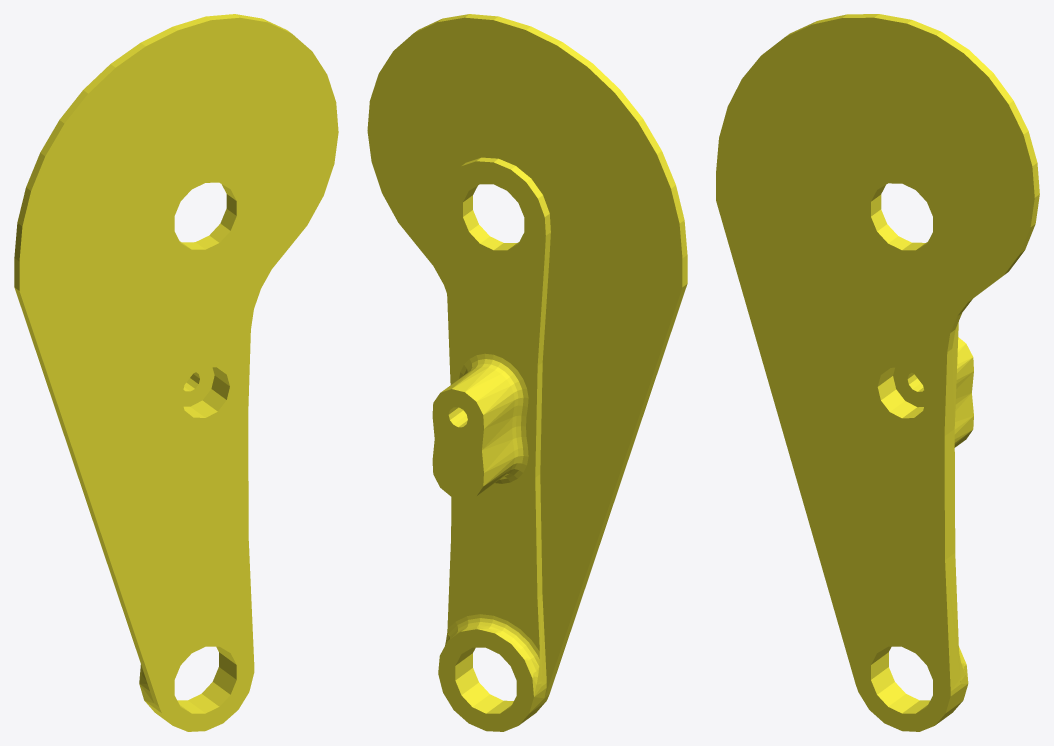
Rendered from rpb2.dae.
3 views of the same model, side by side, from view 1: azimuth 30°, elevation 25°; view 2: azimuth 150°, elevation 25°; view 3: azimuth 330°, elevation 25° (orthographic).
Parts seen in each view (by area): view 1: rpb2; view 2: rpb2; view 3: rpb2.
Part boxes in pixels (x1,y1,x2,y2): rpb2: (14,14,338,731); rpb2: (367,14,687,731); rpb2: (716,14,1039,731).
Size of the model in its own units: 0.036 by 0.009 by 0.0765.
1 material, 1 textured.
